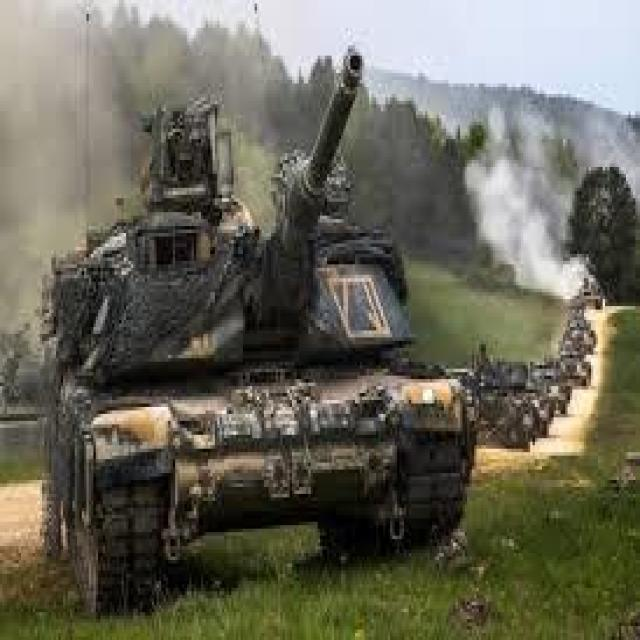Tanks: (32, 71, 476, 583)
